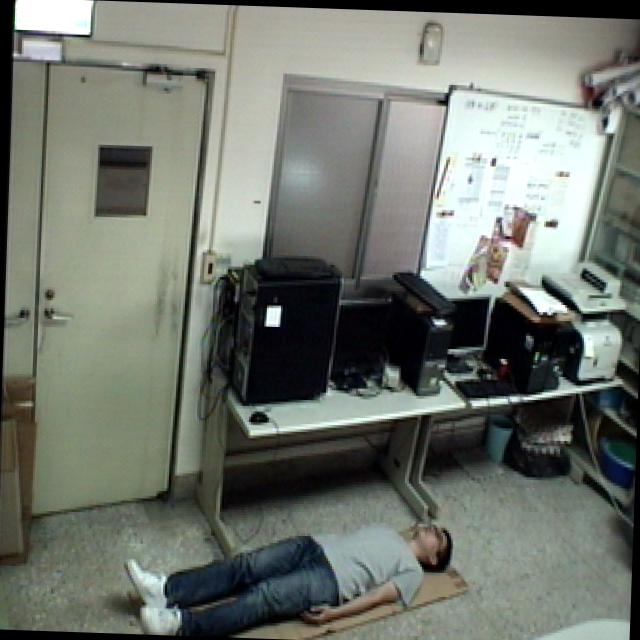lie: (118, 485, 469, 640)
